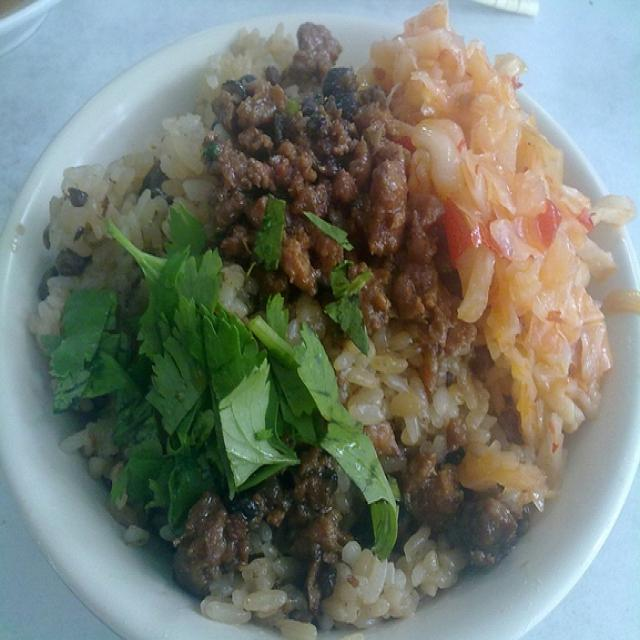米饭主食: (15, 15, 628, 621)
